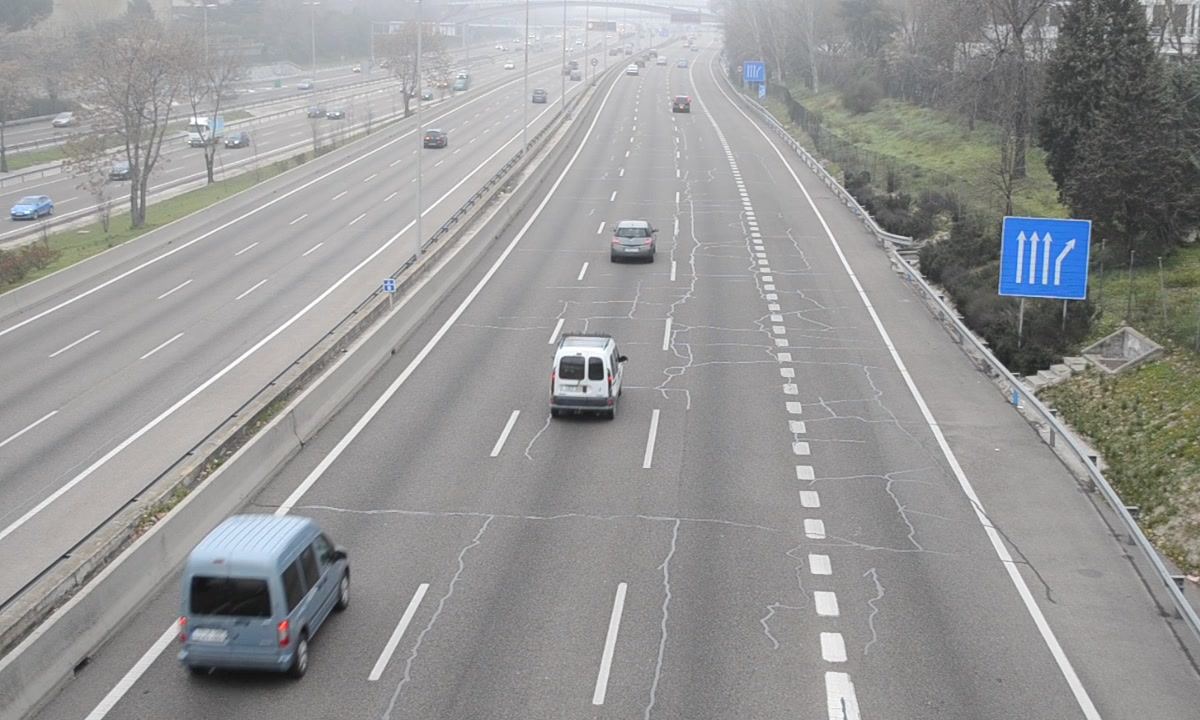car: (610, 220, 656, 261)
van: (182, 517, 349, 673), (550, 336, 622, 414)
